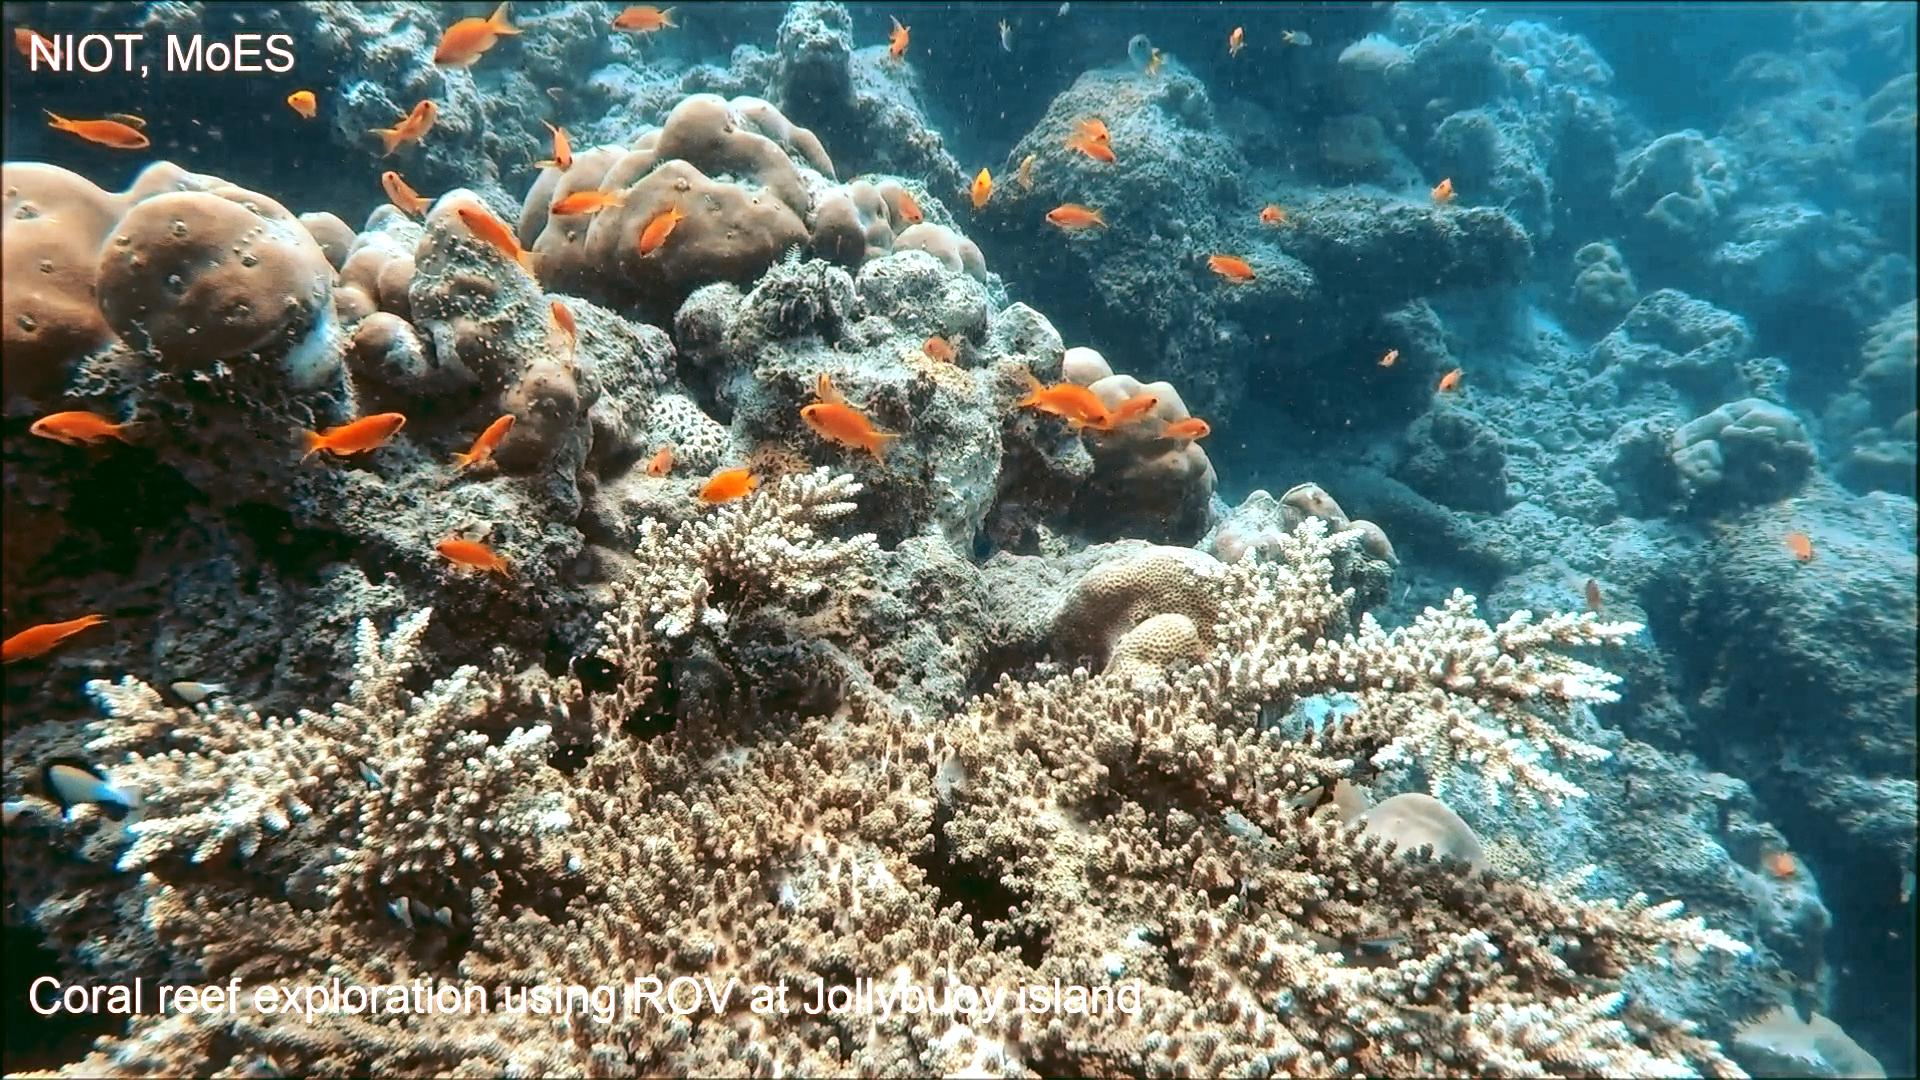Porites-Porites pukoensis: (0, 142, 344, 410), (512, 88, 870, 314)
